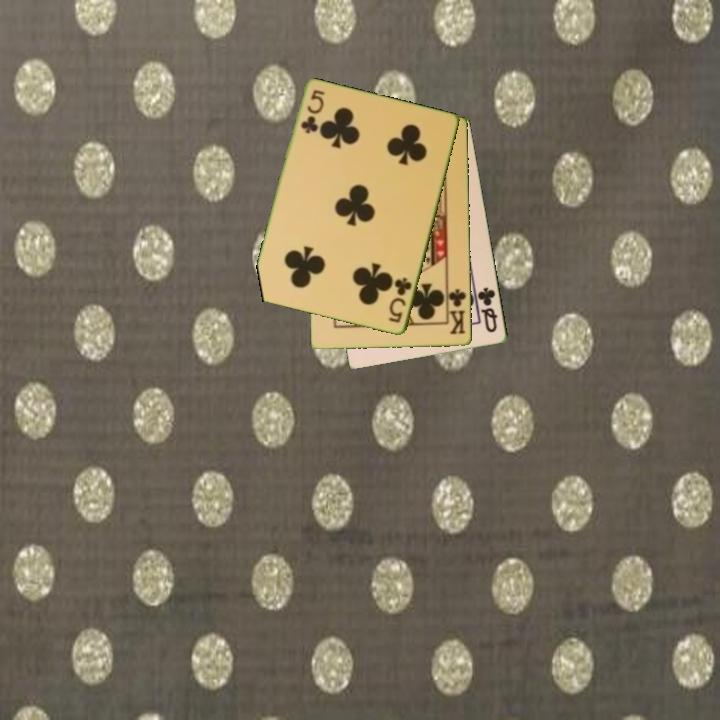5c: (385, 274, 415, 326), (297, 87, 327, 137)
Kc: (444, 284, 469, 337)
Qc: (474, 284, 500, 336)
